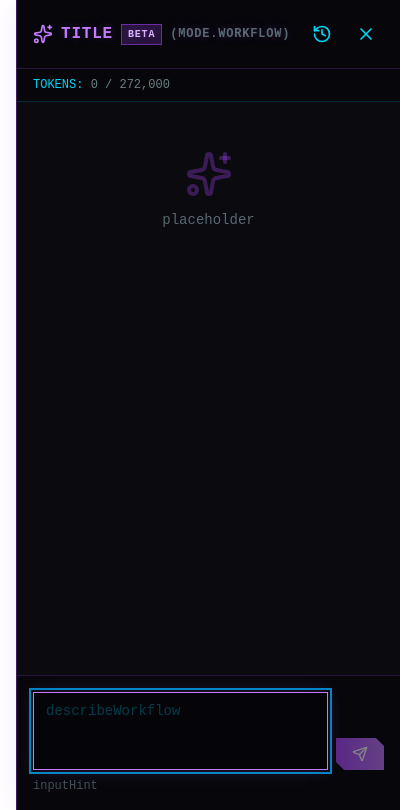
Scenario: ChatSidebar - Session Switcher › should not show active styling on inactive sessions
The width and height of the screenshot is (412, 810).
Open session selector
Click the button named "history".
click(322, 34)  # box x1=304 y1=16 x2=340 y2=52
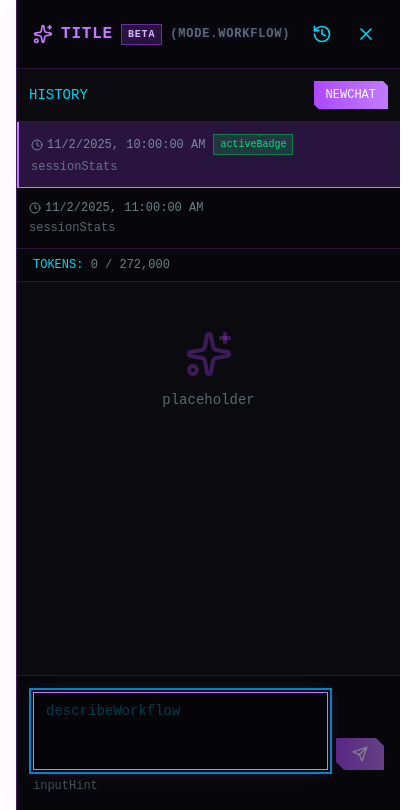
Expected: the number of buttons with test id "inactive-session" is 1, x1=17 y1=188 x2=400 y2=248
